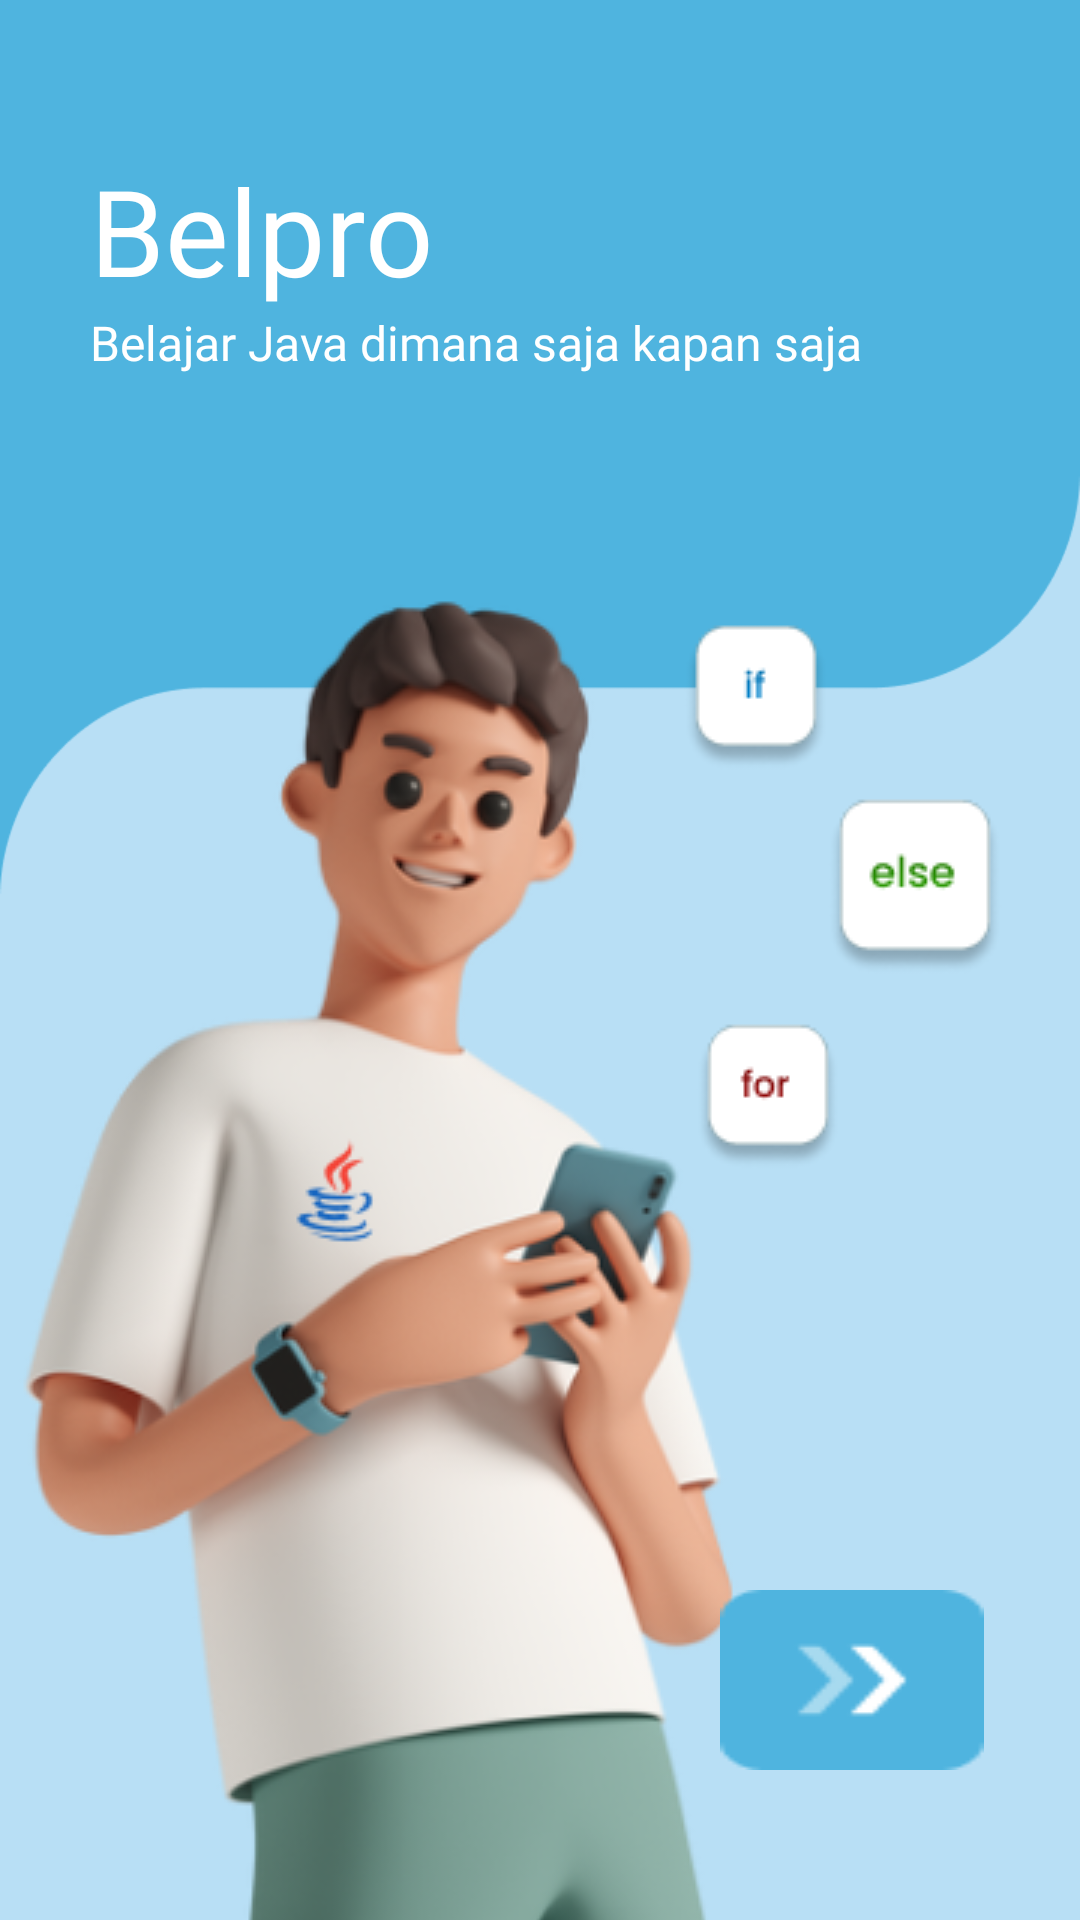

Named icons in this screenshot (1080 x 1920) and their centers, (x,y):
nextbtnlanding: (852,1680)
